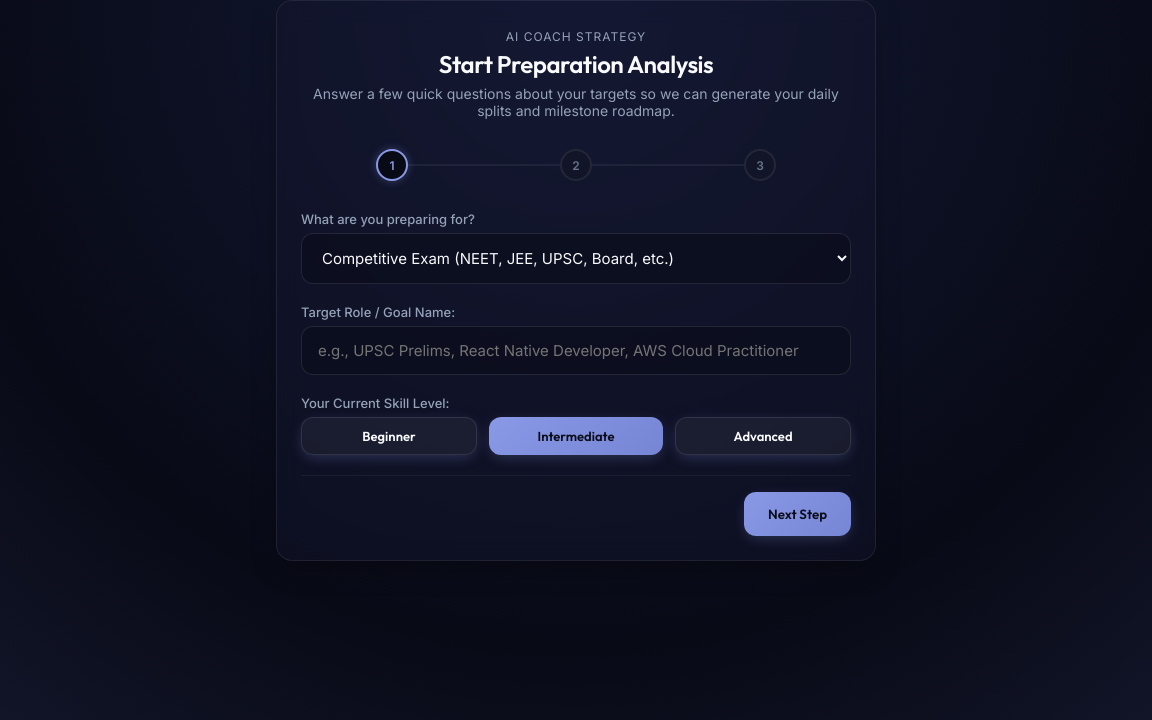
AICoach › should advance through wizard steps
Replace the text in the field with placeholder "e.g., UPSC Prelims" with "JEE Advanced" at (576, 350), box [301,326,851,375]
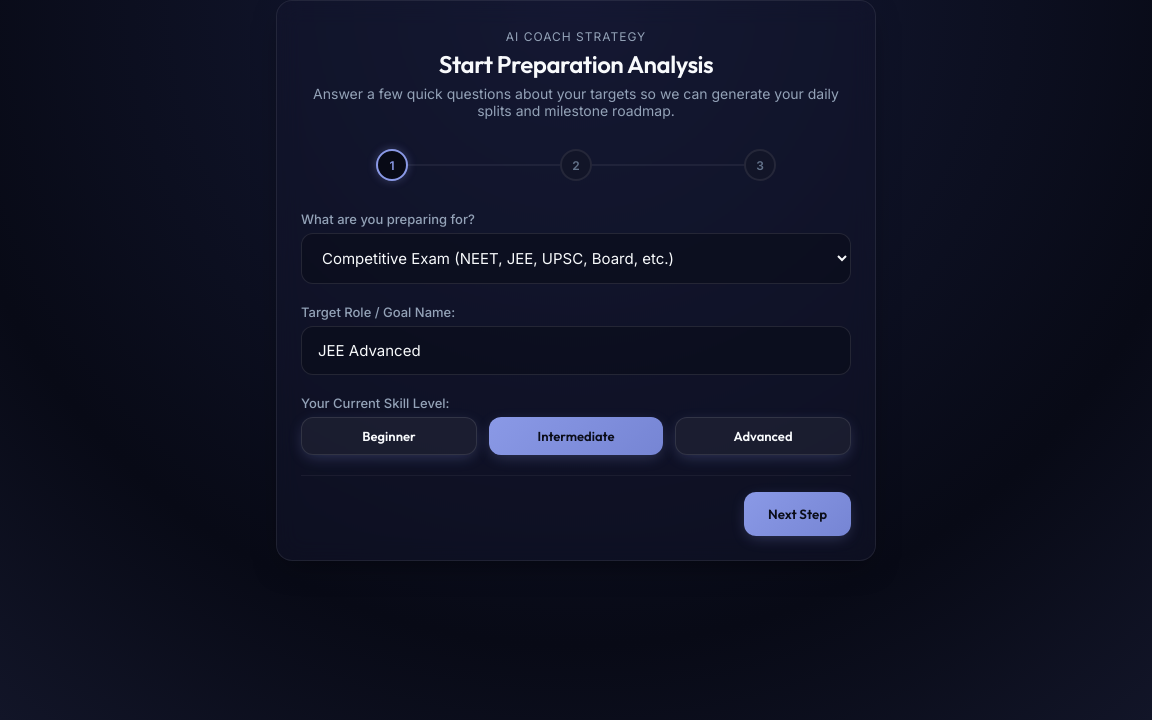
Click the button "Next Step" at (798, 514), box [744,492,851,536]
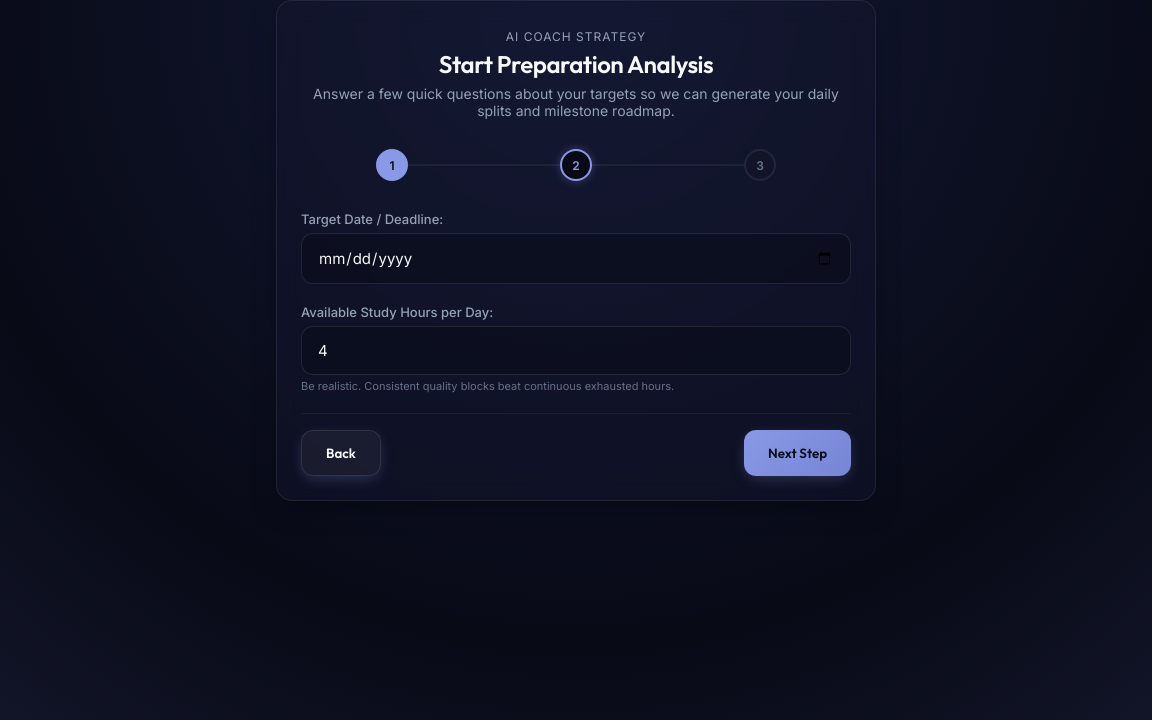
Expected: the text "Target Date / Deadline:" is shown, [301,211,443,227]
Click the button "Next Step" at (798, 453), box [744,430,851,476]
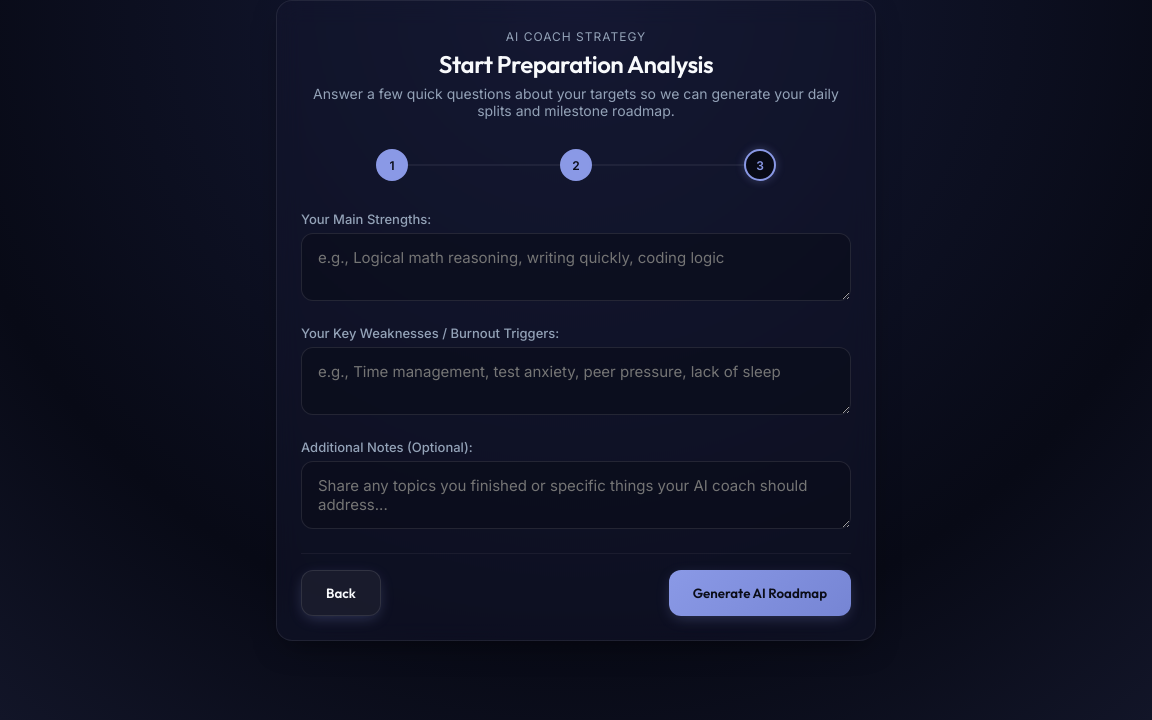
Expected: the button "Back" is shown, [301,570,381,616]
Expected: the text "Your Main Strengths:" is shown, [301,211,431,227]
